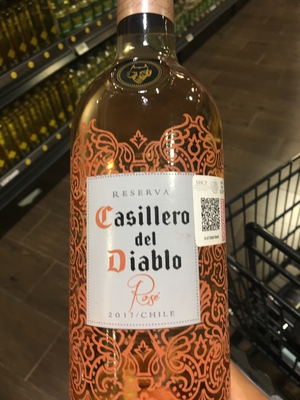casillero del diablo rose: (52, 15, 241, 400)
